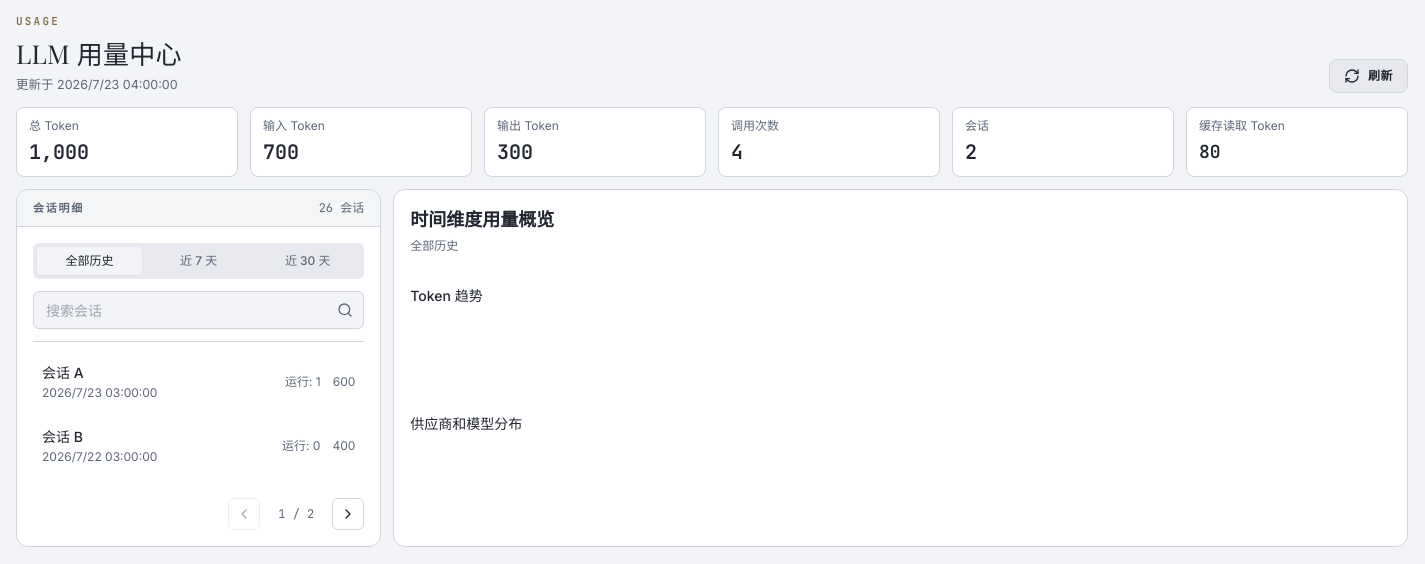
Usage › renders an Indices-style summary and session workspace
The image size is (1425, 564).
Expected: the text "1,000" is shown, [29,139,89,165]
Click the button "会话 A 2026/7/23 03:00:00 运行: 1 600" at (63, 373), box [33,350,364,414]
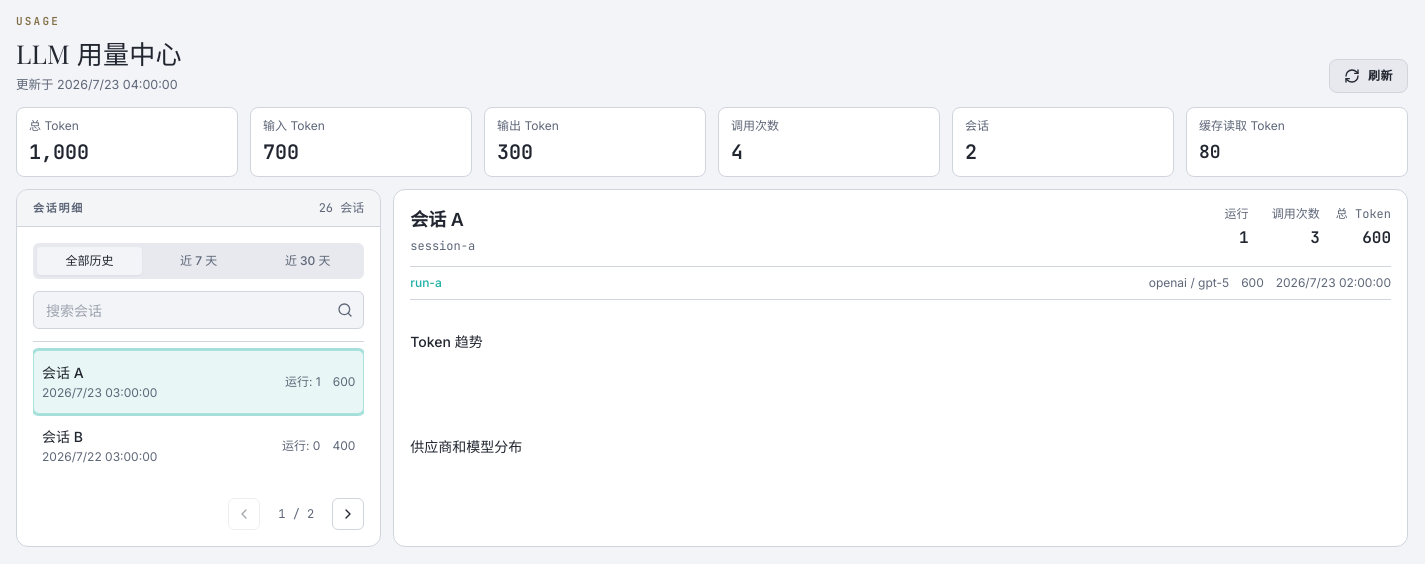
Expected: the link "run-a" is shown, [410,275,442,291]
